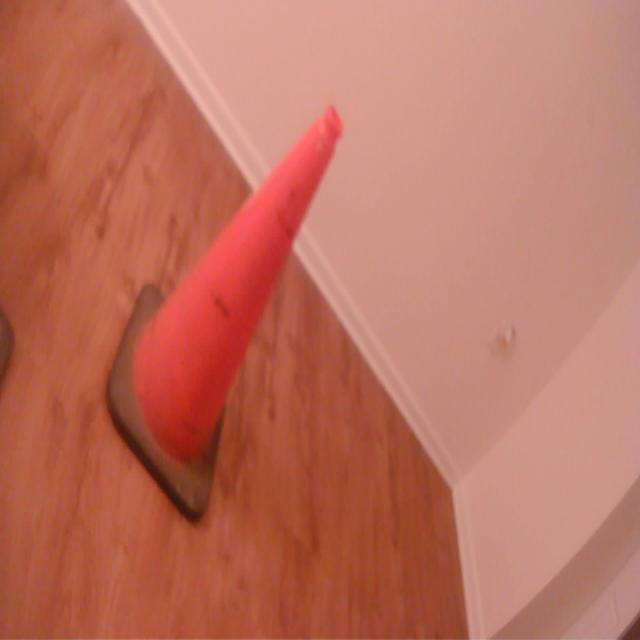traffic cone: (100, 99, 348, 539)
